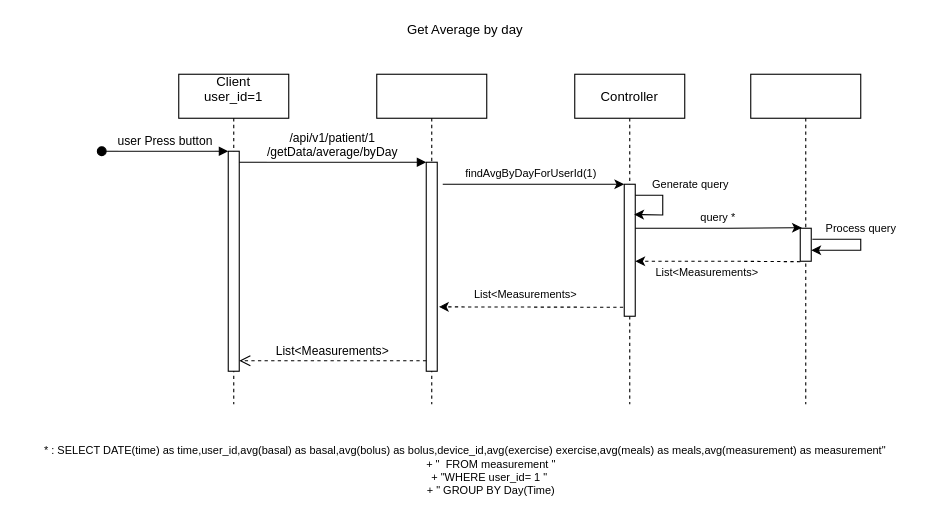
Some shapes in this 928 by 516 pixel diagram are drawn without their labels. Each missing label, with the box of its shape:
API: (376, 73, 487, 404)
Database: (750, 73, 861, 404)
